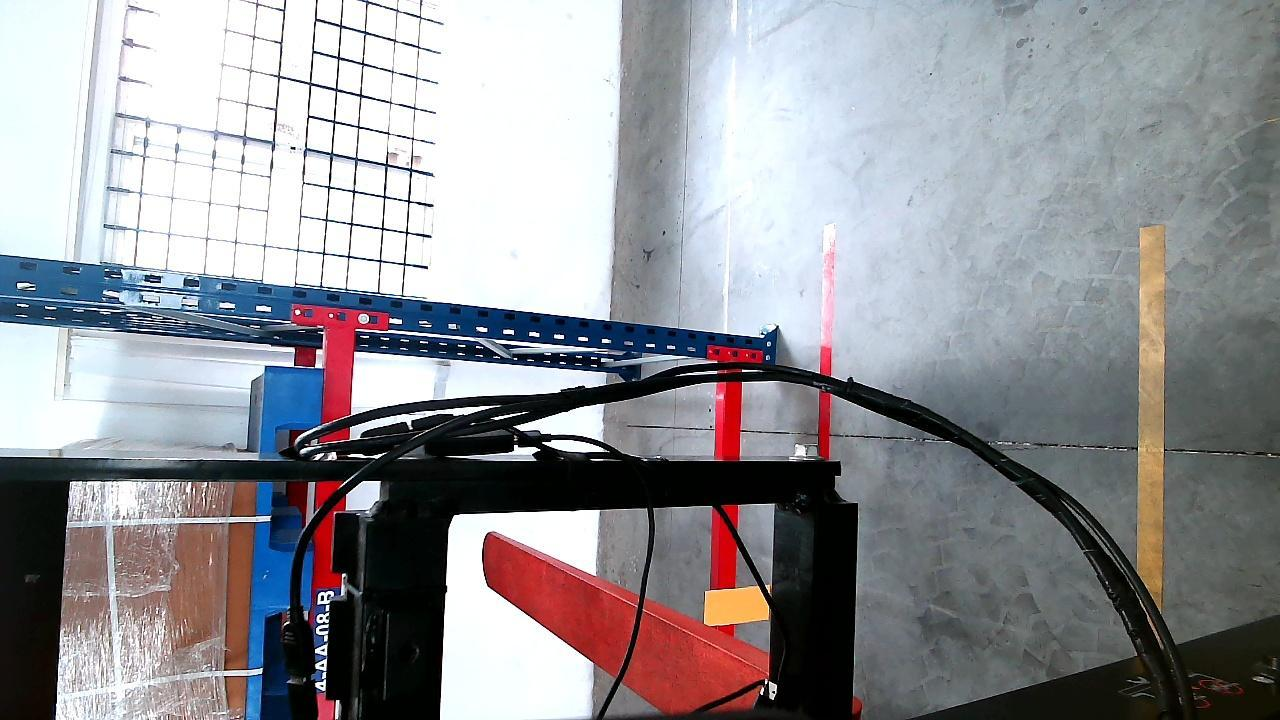red_line: (815, 236, 837, 466)
yellow_line: (1137, 213, 1167, 629)
